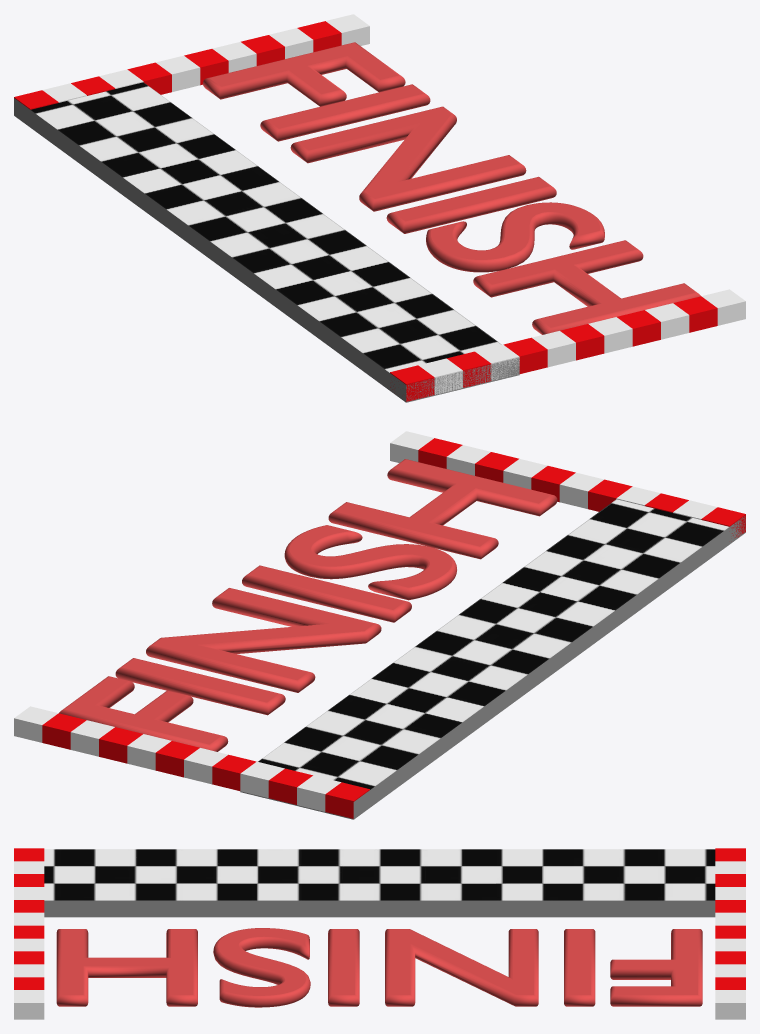
Rendered from finish_line_mini.dae.
3 renders of one model, top to bottom at view 1: azimuth 30°, elevation 25°; view 2: azimuth 150°, elevation 25°; view 3: azimuth 270°, elevation 25°, orthographic. The views are drawn at different scales.
Visible parts, largest first — view 1: Cube, finish, Plane, Plane.001; view 2: Cube, finish, Plane.001, Plane; view 3: Cube, finish, Plane.001, Plane.
Part boxes in pixels (x1,y1,x2,y2): Cube: [14, 82, 519, 402]; finish: [203, 42, 700, 334]; Plane: [390, 289, 745, 401]; Plane.001: [14, 14, 369, 109]; Cube: [240, 499, 745, 819]; finish: [59, 459, 557, 751]; Plane.001: [14, 706, 369, 818]; Plane: [390, 431, 745, 537]; Cube: [44, 849, 715, 917]; finish: [56, 928, 702, 1007]; Plane.001: [715, 848, 745, 1019]; Plane: [14, 848, 44, 1019].
Bounding box in the file's own units: 0.4001 × 0.8001 × 0.021.
Materials: 6 (1 with a texture image).
